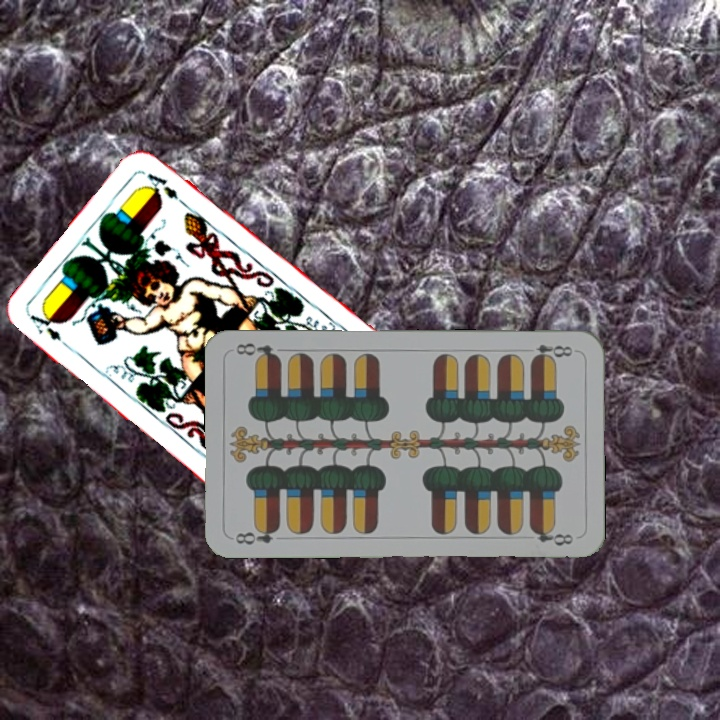E8: (232, 523, 283, 548), (527, 340, 575, 363)
EA: (26, 308, 75, 354)
